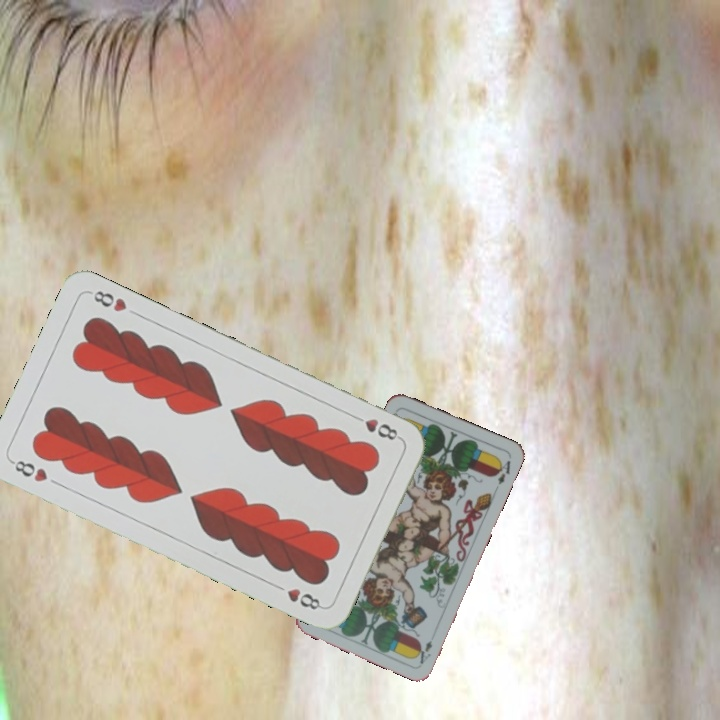EA: (413, 636, 435, 667)
H8: (348, 411, 404, 443), (7, 456, 51, 485)
